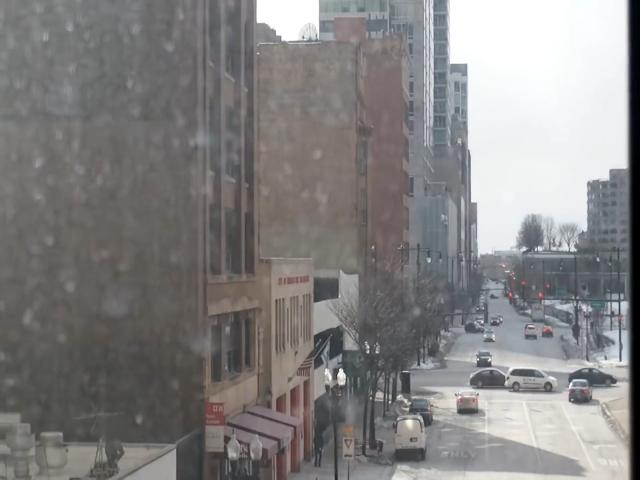signal light: (619, 313, 623, 331), (509, 293, 514, 307), (539, 292, 544, 306), (523, 281, 528, 294), (547, 285, 551, 295)
